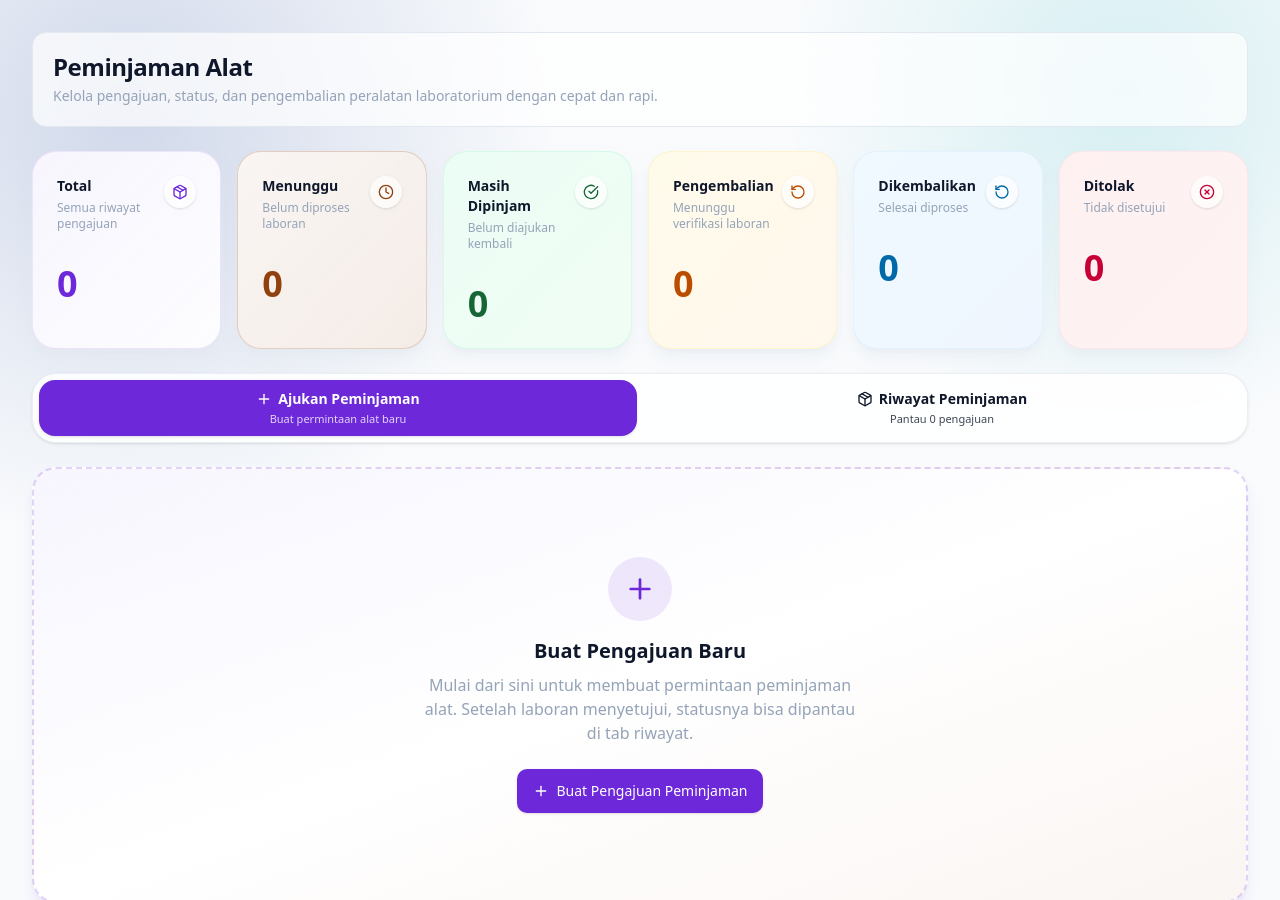
Dosen PeminjamanPage › menampilkan helper jadwal aktif saat opsi praktikum tersedia
Click the button "Buat Pengajuan Peminjaman" at (640, 791), box [516,769,764,813]
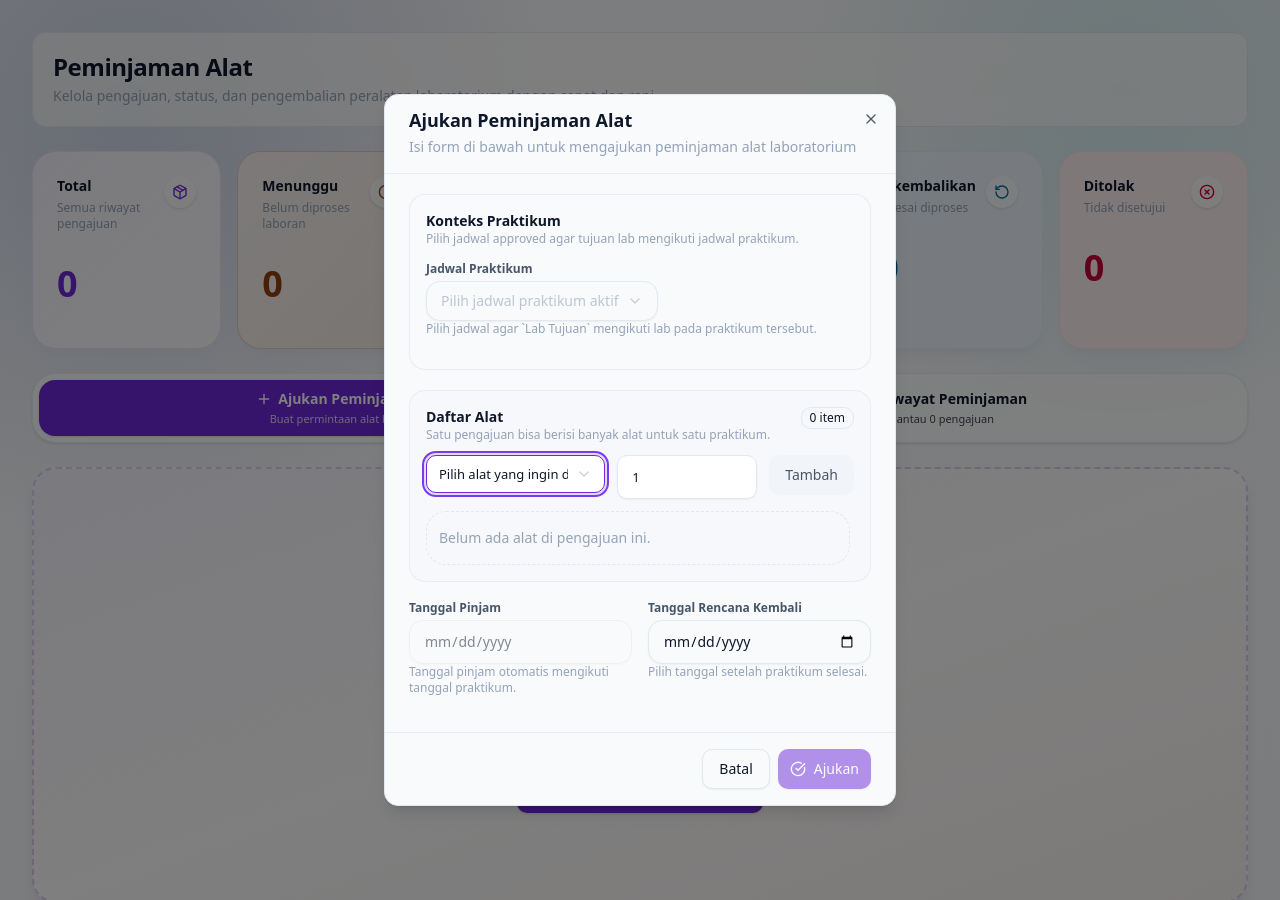
Check: the text "Pilih jadwal agar `Lab Tujuan` mengikuti lab" is shown, box [426,320,817,337]
